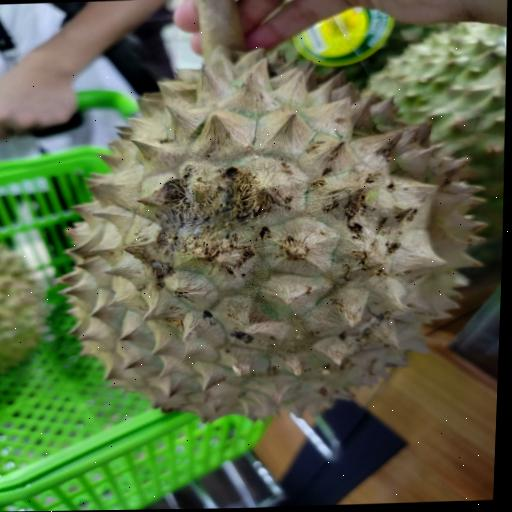rot: (26, 18, 504, 444)
